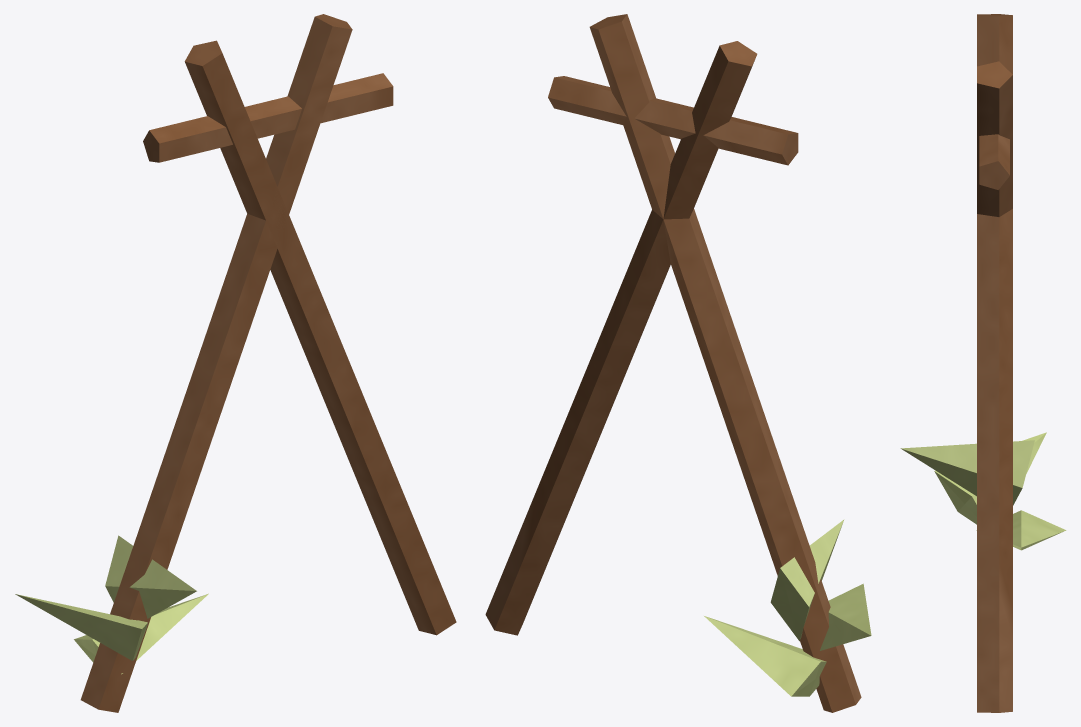
The model's file is sm_crop_pea_1.glb.
3 renders of one model, left to right at view 1: azimuth 30°, elevation 25°; view 2: azimuth 150°, elevation 25°; view 3: azimuth 270°, elevation 25°, orthographic. The views are drawn at different scales.
Parts seen in each view (by area): view 1: sm_crop_pea_1; view 2: sm_crop_pea_1; view 3: sm_crop_pea_1.
Part boxes in pixels (left/top/right/bottom): sm_crop_pea_1: left=15, top=14, right=456, bottom=712; sm_crop_pea_1: left=485, top=14, right=871, bottom=712; sm_crop_pea_1: left=900, top=14, right=1066, bottom=712.
Size of the model in its own units: 0.3162 by 0.4697 by 0.1177.
1 material, 1 textured.
